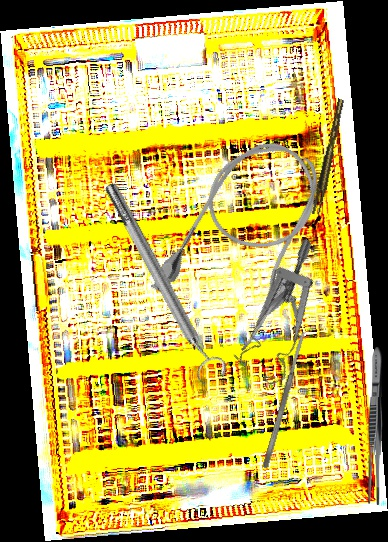Cannula: (145, 122, 350, 358)
Dressing Forceps: (366, 346, 385, 506)
Fixation Ring: (95, 176, 231, 388)
Spatula Surgical: (261, 331, 308, 469)
Speculum: (211, 237, 365, 393)
Tissue Forceps: (307, 98, 351, 216)
